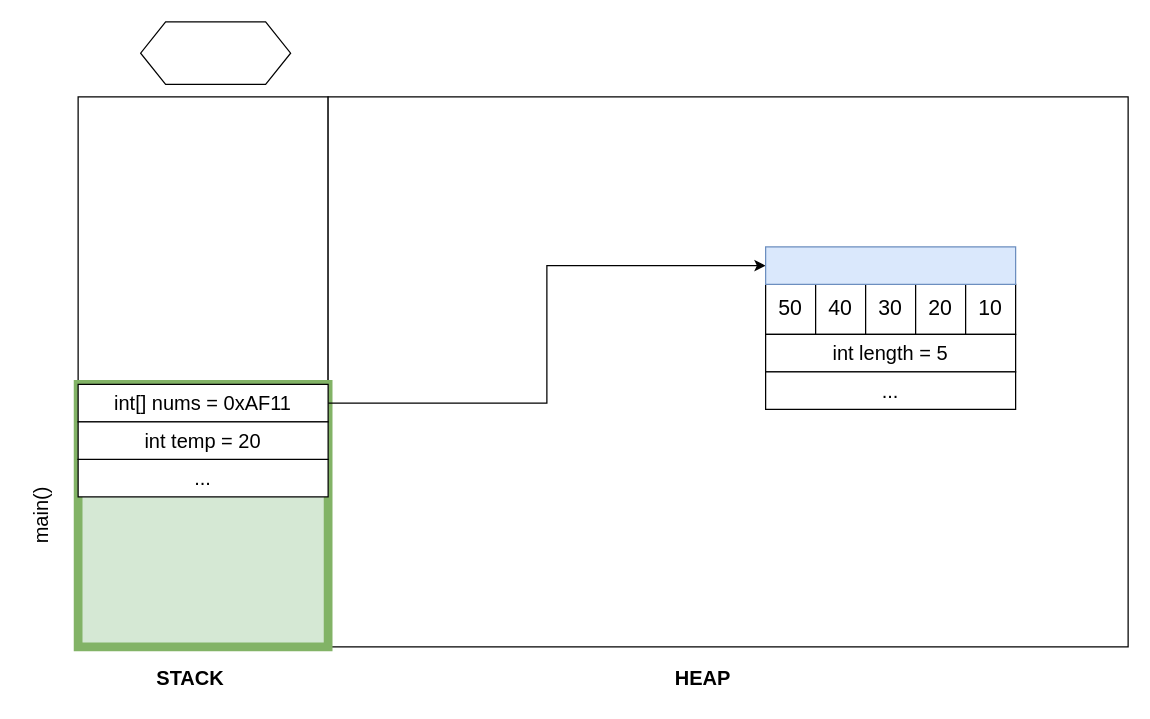
This 1150x719 diagram has some shape labels left out. Here are the shapes that lost their labels. From the top down, the centre of each, then its label:
(x=215, y=52): main thread
(x=890, y=265): 0xAF10
